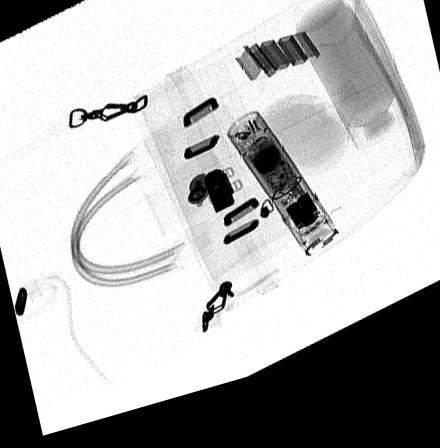Baton: (226, 125, 340, 274)
